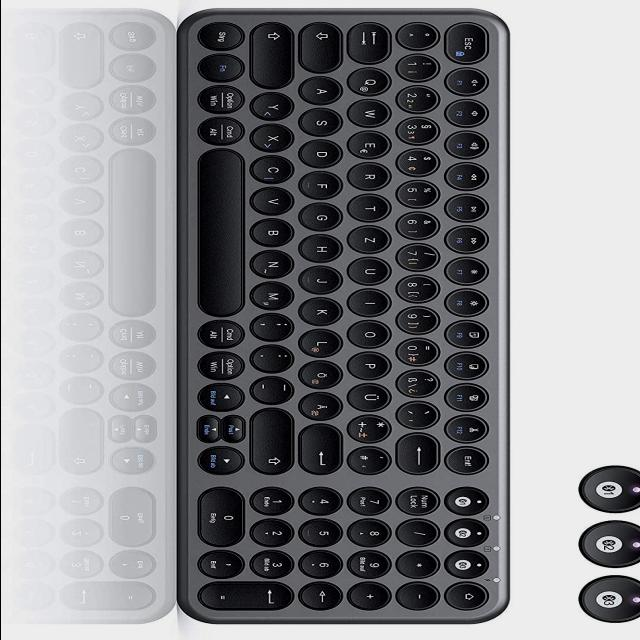0: (399, 337, 442, 365)
1: (400, 53, 442, 79)
2: (399, 84, 441, 112)
3: (400, 116, 442, 144)
4: (400, 148, 442, 175)
5: (399, 178, 442, 206)
6: (399, 210, 442, 238)
7: (399, 243, 442, 270)
8: (399, 274, 441, 302)
9: (399, 305, 442, 333)
a: (302, 76, 344, 103)
accent: (400, 400, 442, 428)
ae: (299, 392, 342, 420)
alt-left: (201, 116, 247, 144)
altgr-right: (200, 319, 246, 347)
b: (254, 217, 296, 245)
c: (254, 155, 296, 182)
caret: (399, 22, 441, 48)
comma: (254, 312, 296, 340)
d: (301, 139, 345, 167)
del: (399, 432, 443, 473)
e: (350, 130, 393, 157)
enter: (301, 425, 345, 475)
f: (302, 171, 345, 198)
g: (301, 202, 344, 229)
h: (302, 234, 344, 261)
hash: (351, 445, 394, 473)
i: (351, 288, 394, 315)
j: (302, 265, 345, 292)
k: (302, 296, 345, 324)
keyboard: (178, 7, 516, 623)
l: (301, 328, 345, 356)
m: (254, 281, 296, 309)
minus: (254, 375, 296, 403)
n: (254, 249, 296, 277)
o: (350, 320, 394, 347)
oe: (301, 360, 344, 388)
p: (351, 352, 394, 378)
plus: (350, 414, 394, 442)
point: (254, 344, 296, 372)
q: (350, 67, 393, 95)
r: (351, 162, 393, 188)
s: (301, 107, 344, 135)
shift-left: (251, 22, 296, 88)
shift-lock: (299, 21, 343, 73)
shift-right: (253, 407, 297, 473)
space: (199, 147, 247, 315)
ss: (399, 368, 442, 396)
strg-left: (200, 21, 246, 49)
t: (351, 194, 394, 220)
tab: (350, 21, 394, 63)
u: (350, 257, 394, 283)
ue: (350, 383, 394, 410)
v: (255, 186, 297, 214)
w: (351, 99, 394, 125)
x: (254, 124, 296, 151)
y: (254, 92, 296, 119)
z: (351, 226, 393, 252)
